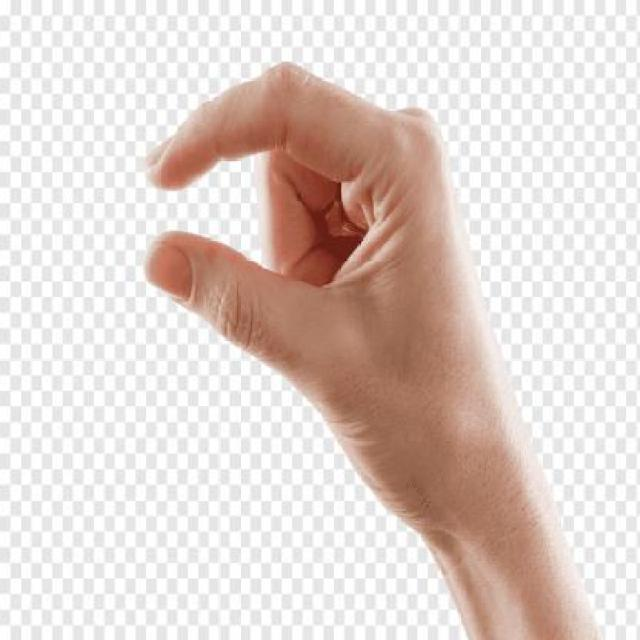no_apron: (123, 47, 488, 500)
